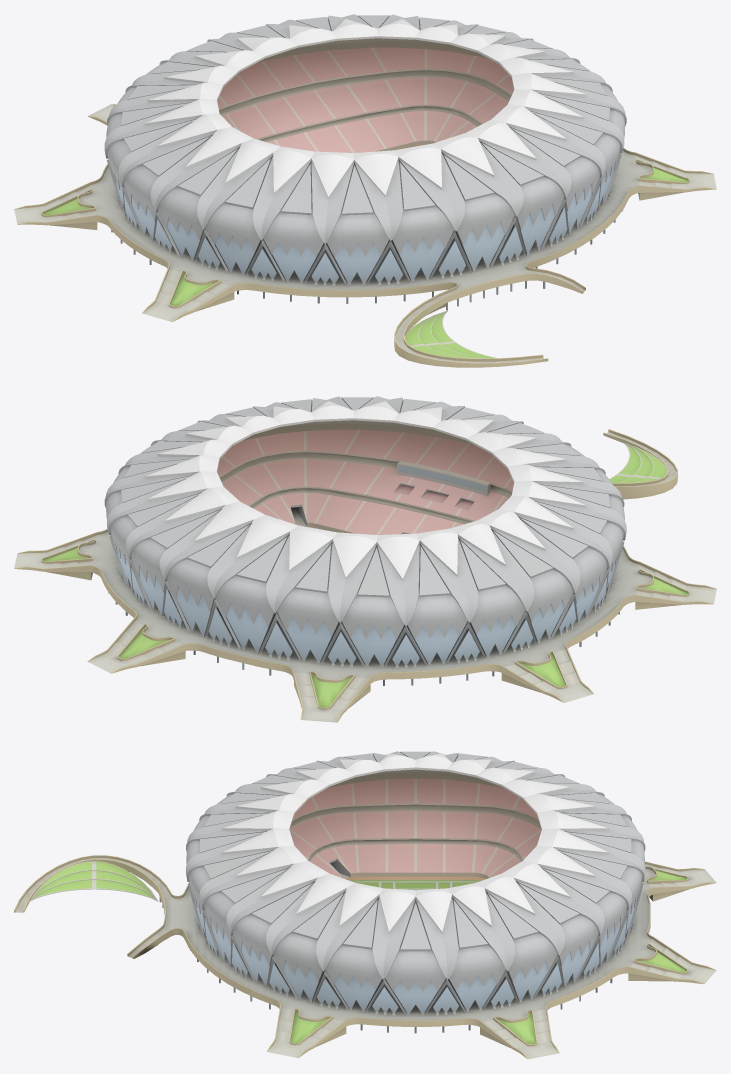
The picture shows the model from 3 angles, top to bottom: view 1: azimuth 30°, elevation 25°; view 2: azimuth 150°, elevation 25°; view 3: azimuth 270°, elevation 25°; orthographic projection. The views are drawn at different scales.
Parts seen in each view (by area): view 1: Stadium_Low_baked; view 2: Stadium_Low_baked; view 3: Stadium_Low_baked.
Part boxes in pixels (bbox=[...]): Stadium_Low_baked: bbox=[14, 14, 716, 367]; Stadium_Low_baked: bbox=[14, 396, 716, 722]; Stadium_Low_baked: bbox=[14, 751, 716, 1059].
Size of the model in its own units: 285 by 51.59 by 318.
1 material, 1 textured.
